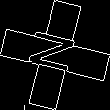N_E: (26, 30, 84, 80)
